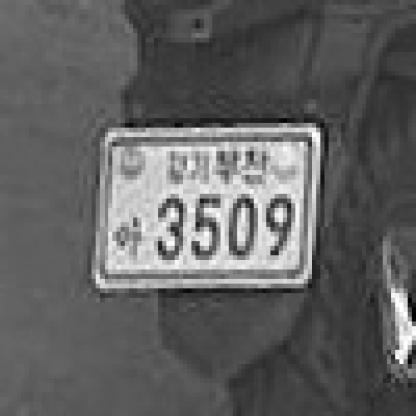bnum: (84, 120, 327, 298)
